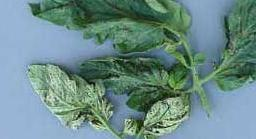Tomato leaf bacterial spot: (24, 0, 196, 57), (19, 60, 110, 129), (211, 0, 256, 87), (139, 95, 193, 139)
